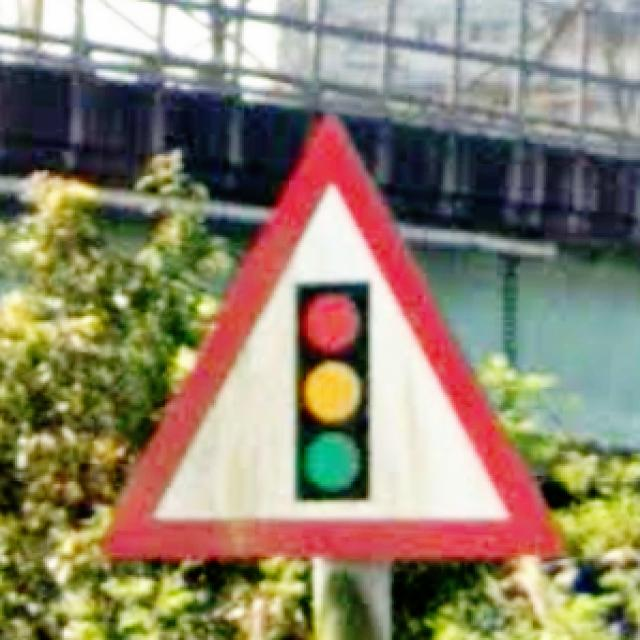signalahead: (97, 109, 568, 567)
